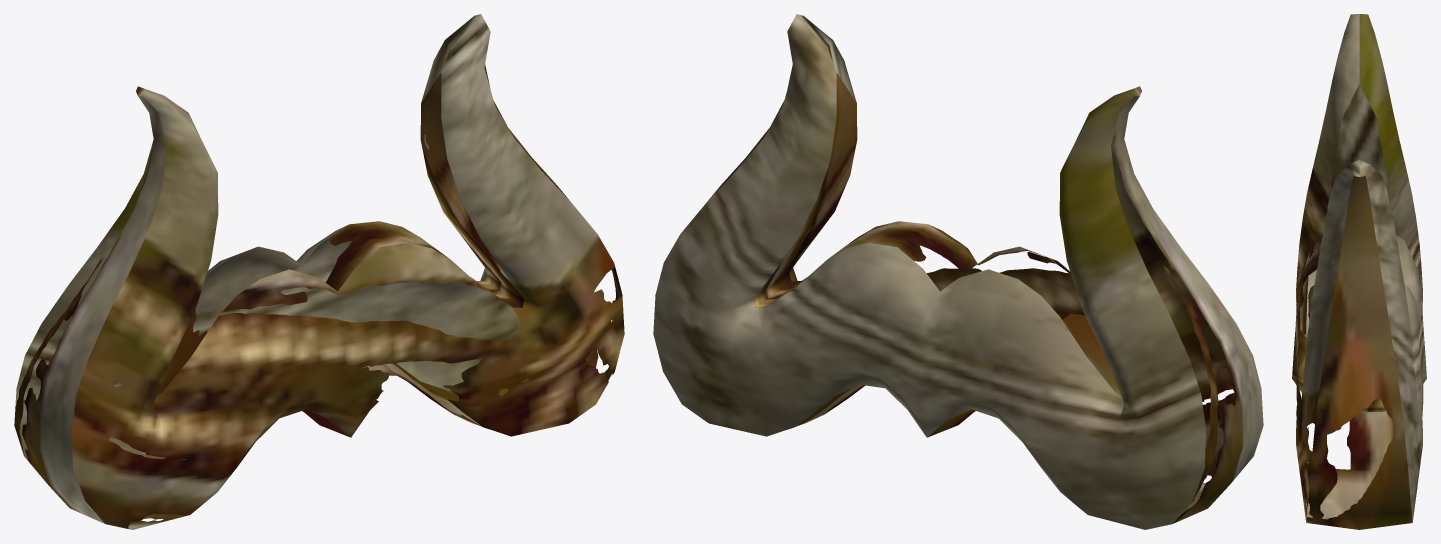
The picture shows the model from 3 angles, left to right: view 1: azimuth 30°, elevation 25°; view 2: azimuth 150°, elevation 25°; view 3: azimuth 270°, elevation 25°; orthographic projection. The views are drawn at different scales.
Parts seen in each view (by area): view 1: SM_Goblin_Napsack_01_LOD0; view 2: SM_Goblin_Napsack_01_LOD0; view 3: SM_Goblin_Napsack_01_LOD0.
Boxes of the visible parts, box(x1,y1,x2,y2) form: SM_Goblin_Napsack_01_LOD0: box(14, 14, 624, 529); SM_Goblin_Napsack_01_LOD0: box(653, 14, 1263, 529); SM_Goblin_Napsack_01_LOD0: box(1292, 14, 1426, 529).
Bounding box in the file's own units: 1.18 × 0.8305 × 0.289.
